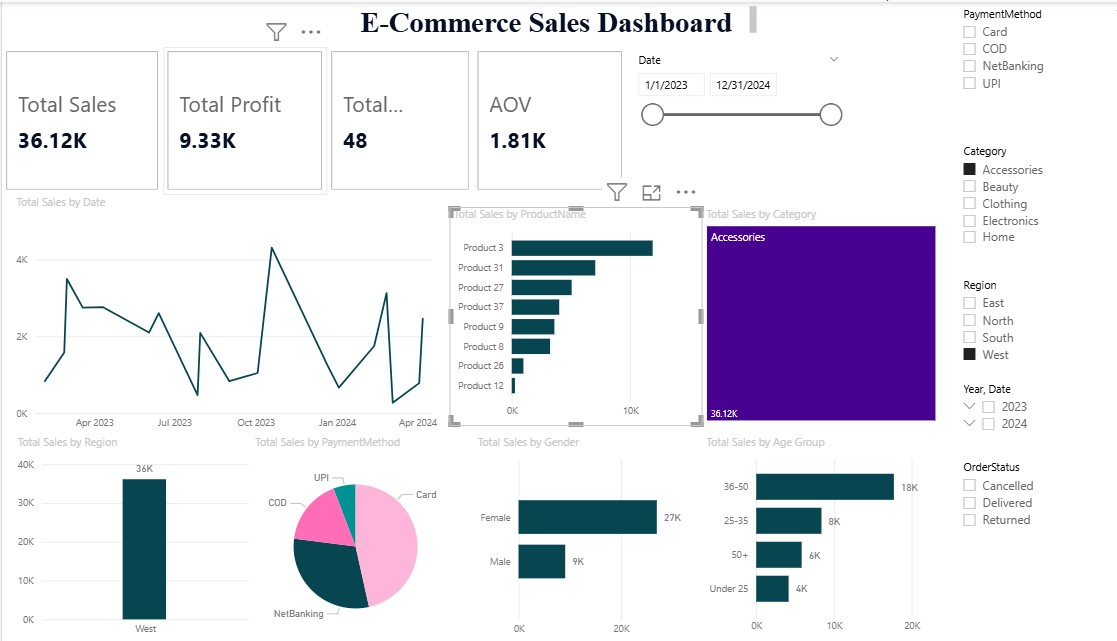

The page's visual inventory and layout, read from the dashboard file:
{"tool":"powerbi","page":{"name":"Page 1","canvas":[1280,720],"ordinal":0},"visuals":[{"type":"cardVisual","fields":{"Data":["Customers.Total Sales"]},"box":[0,50.5,180.9,165.4],"z":0},{"type":"cardVisual","fields":{"Data":["Customers.Total Profit"]},"box":[180.9,50.5,183.7,165.4],"z":1000},{"type":"cardVisual","fields":{"Data":["Customers.Total Quantity"]},"box":[364.5,50.5,164,165.4],"z":2000},{"type":"cardVisual","fields":{"Data":["Customers.AOV"]},"box":[528.5,50.5,172.4,165.4],"z":3000},{"type":"slicer","fields":{"Values":["DateTable.Date"]},"box":[701,51.9,249.6,164],"z":4000},{"type":"lineChart","fields":{"Category":["DateTable.Date"],"Y":["Customers.Total Sales"]},"box":[11.2,215.9,487.9,273.4],"z":5000},{"type":"clusteredBarChart","fields":{"Y":["Customers.Total Sales"],"Category":["Products.ProductName"]},"box":[501.9,229.9,283.2,245.3],"z":6000},{"type":"treemap","fields":{"Group":["Products.Category"],"Values":["Customers.Total Sales"]},"box":[785.1,229.9,267.8,245.3],"z":7000},{"type":"clusteredColumnChart","fields":{"Category":["Orders.Region"],"Y":["Customers.Total Sales"]},"box":[12.6,485.1,269.2,235.5],"z":8000},{"type":"pieChart","fields":{"Category":["Orders.PaymentMethod"],"Y":["Customers.Total Sales"]},"box":[279,485.1,235.5,235.5],"z":9000},{"type":"clusteredBarChart","fields":{"Category":["Customers.Gender"],"Y":["Customers.Total Sales"]},"box":[528.5,485.1,256.6,235.5],"z":10000},{"type":"clusteredBarChart","fields":{"Category":["Customers.Age Group"],"Y":["Customers.Total Sales"]},"box":[785.1,485.1,266.4,231.3],"z":11000},{"type":"slicer","fields":{"Values":["Orders.OrderStatus"]},"box":[1065.5,508.9,214.5,106.5],"z":12000},{"type":"slicer","fields":{"Values":["DateTable.Year","DateTable.Date"]},"box":[1065.5,420.6,214.5,77.1],"z":13000},{"type":"slicer","fields":{"Values":["Orders.Region"]},"box":[1065.5,304.2,214.5,116.4],"z":14000},{"type":"slicer","fields":{"Values":["Orders.PaymentMethod"]},"box":[1065.5,0,206.1,150],"z":15000},{"type":"slicer","fields":{"Values":["Products.Category"]},"box":[1065.5,154.2,214.5,150],"z":16000},{"type":"textbox","box":[396.8,0,454.2,50.5],"z":17000}]}

Visuals, with their boxes on the page's 1280x720 design canvas (x1, y1, x2, y2). These are canvas units, not pixel positions in the 1117x641 screenshot, which may show the page scaled, cropped or inside an application window:
cardVisual - Customers.Total Sales: {"left": 0, "top": 50, "right": 181, "bottom": 216}
cardVisual - Customers.Total Profit: {"left": 181, "top": 50, "right": 365, "bottom": 216}
cardVisual - Customers.Total Quantity: {"left": 364, "top": 50, "right": 528, "bottom": 216}
cardVisual - Customers.AOV: {"left": 528, "top": 50, "right": 701, "bottom": 216}
slicer - DateTable.Date: {"left": 701, "top": 52, "right": 951, "bottom": 216}
lineChart - DateTable.Date x Customers.Total Sales: {"left": 11, "top": 216, "right": 499, "bottom": 489}
clusteredBarChart - Customers.Total Sales x Products.ProductName: {"left": 502, "top": 230, "right": 785, "bottom": 475}
treemap - Products.Category x Customers.Total Sales: {"left": 785, "top": 230, "right": 1053, "bottom": 475}
clusteredColumnChart - Orders.Region x Customers.Total Sales: {"left": 13, "top": 485, "right": 282, "bottom": 721}
pieChart - Orders.PaymentMethod x Customers.Total Sales: {"left": 279, "top": 485, "right": 514, "bottom": 721}
clusteredBarChart - Customers.Gender x Customers.Total Sales: {"left": 528, "top": 485, "right": 785, "bottom": 721}
clusteredBarChart - Customers.Age Group x Customers.Total Sales: {"left": 785, "top": 485, "right": 1052, "bottom": 716}
slicer - Orders.OrderStatus: {"left": 1066, "top": 509, "right": 1280, "bottom": 615}
slicer - DateTable.Year x DateTable.Date: {"left": 1066, "top": 421, "right": 1280, "bottom": 498}
slicer - Orders.Region: {"left": 1066, "top": 304, "right": 1280, "bottom": 421}
slicer - Orders.PaymentMethod: {"left": 1066, "top": 0, "right": 1272, "bottom": 150}
slicer - Products.Category: {"left": 1066, "top": 154, "right": 1280, "bottom": 304}
textbox: {"left": 397, "top": 0, "right": 851, "bottom": 50}
